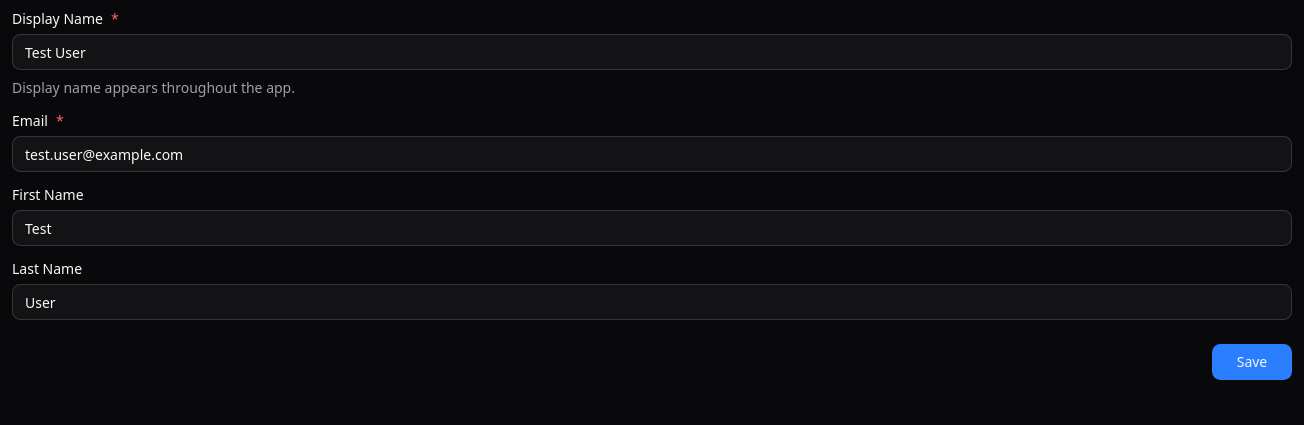
AccountForm › requires a first name
Clear the field labelled "First Name". click: (652, 228)
box: [12, 210, 1292, 246]
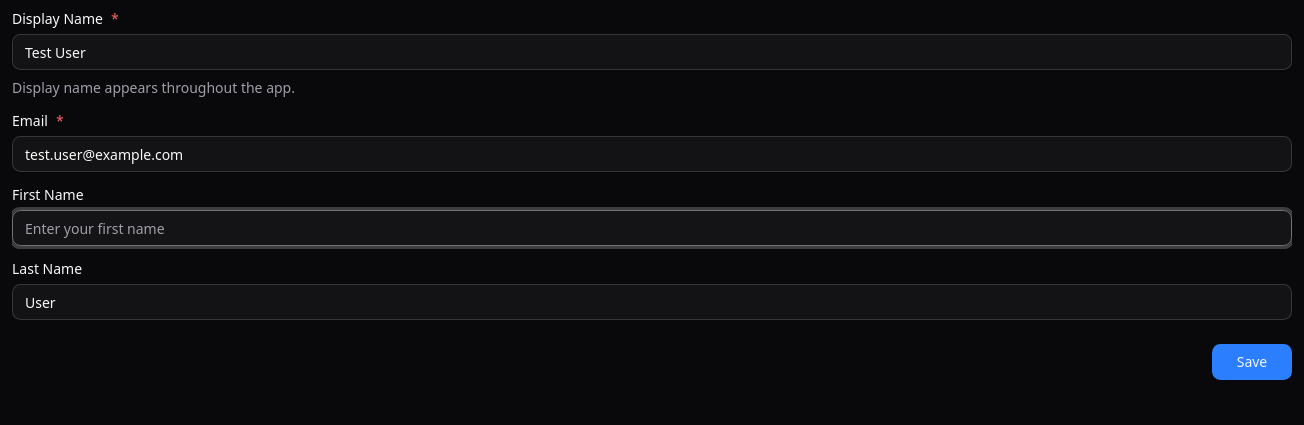
Press Tab
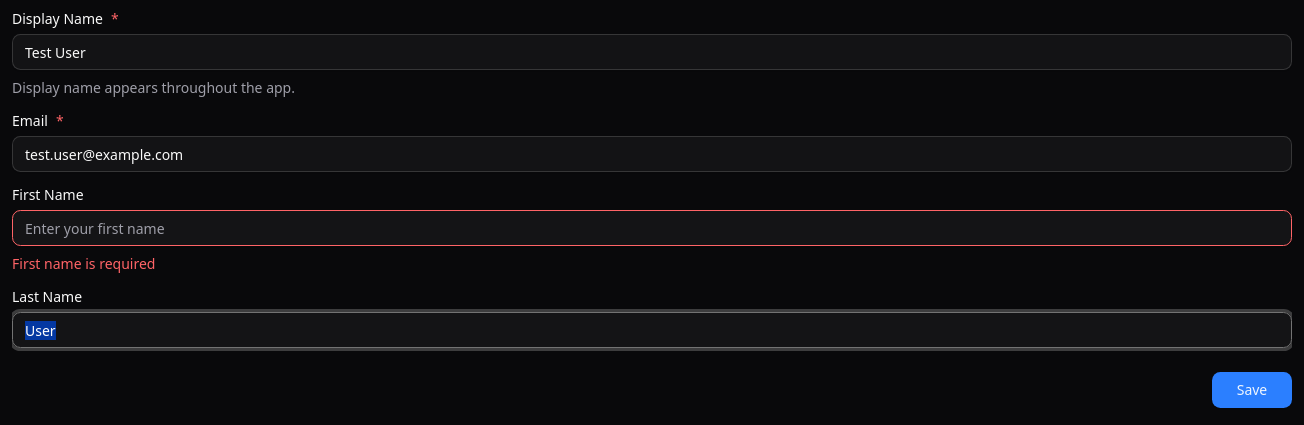
Expected: the text "First name is required" is shown, [12, 254, 155, 273]
